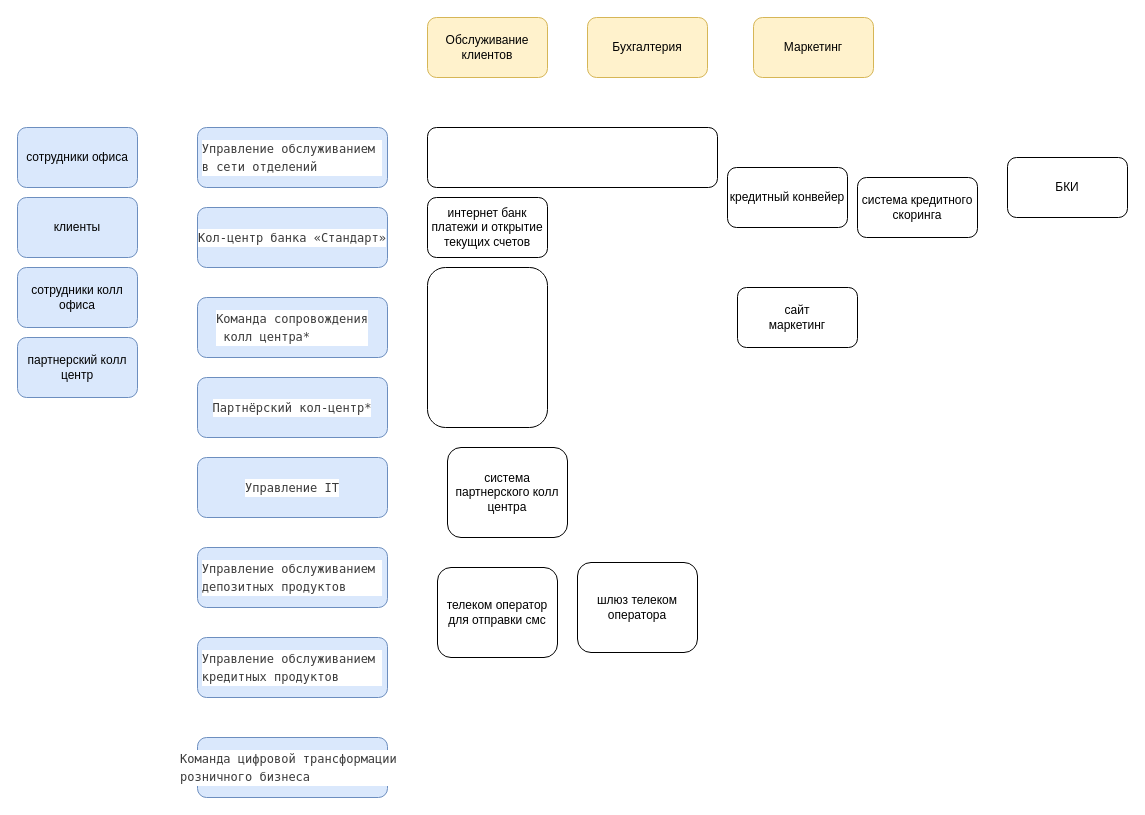
Image size: 1145x815. Some labels were removed from this diagram. Here are the shapes that lost their labels. From the top down, the box of each, then its label:
(426, 126, 718, 188): АБС
(426, 266, 548, 428): система колл центра
